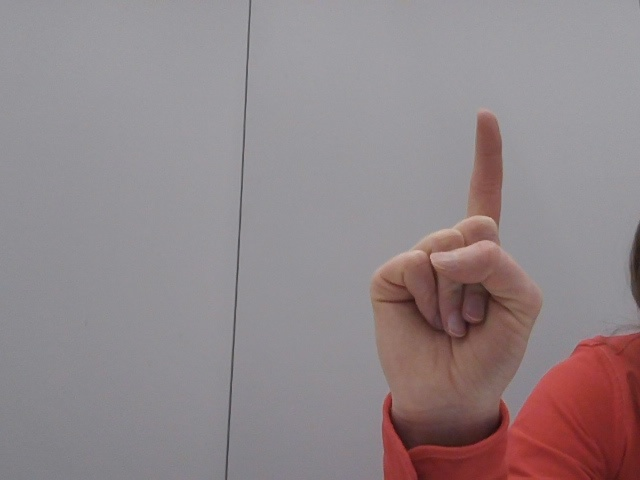up: (355, 89, 559, 469)
